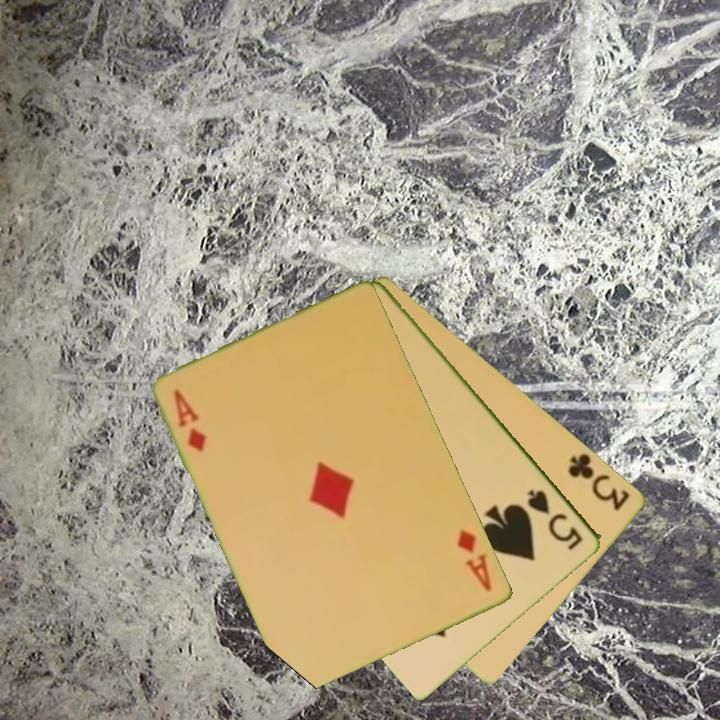3c: (565, 449, 634, 514)
5s: (524, 485, 586, 554)
Ad: (454, 526, 495, 595), (171, 386, 211, 455)
